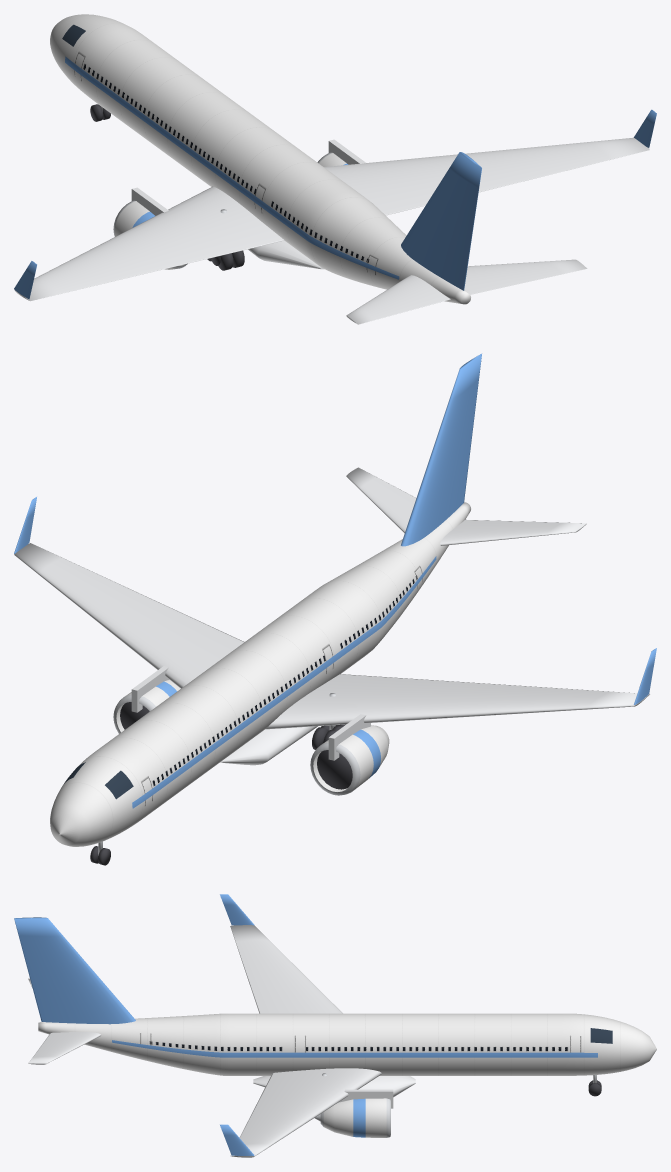
The model's file is airliner-wide.glb.
3 views of the same model, one above another, from view 1: azimuth 30°, elevation 25°; view 2: azimuth 150°, elevation 25°; view 3: azimuth 270°, elevation 25° (orthographic). The views are drawn at different scales.
Parts seen in each view (by area): view 1: Airliner; view 2: Airliner; view 3: Airliner.
Part boxes in pixels (x1,y1,x2,y2): Airliner: (14, 14, 656, 324); Airliner: (14, 353, 656, 865); Airliner: (14, 894, 656, 1157).
Bounding box in the file's own units: 54.87 × 20.05 × 64.45.
6 materials, 1 textured.
